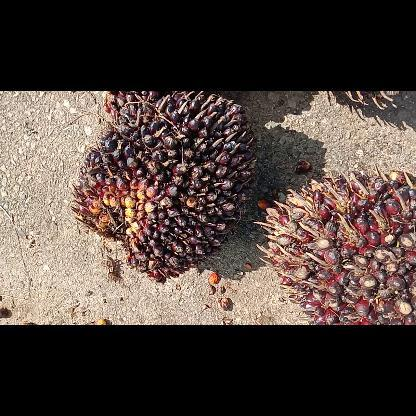TBS mentah: (77, 94, 250, 278), (254, 161, 414, 323), (104, 90, 160, 116)
